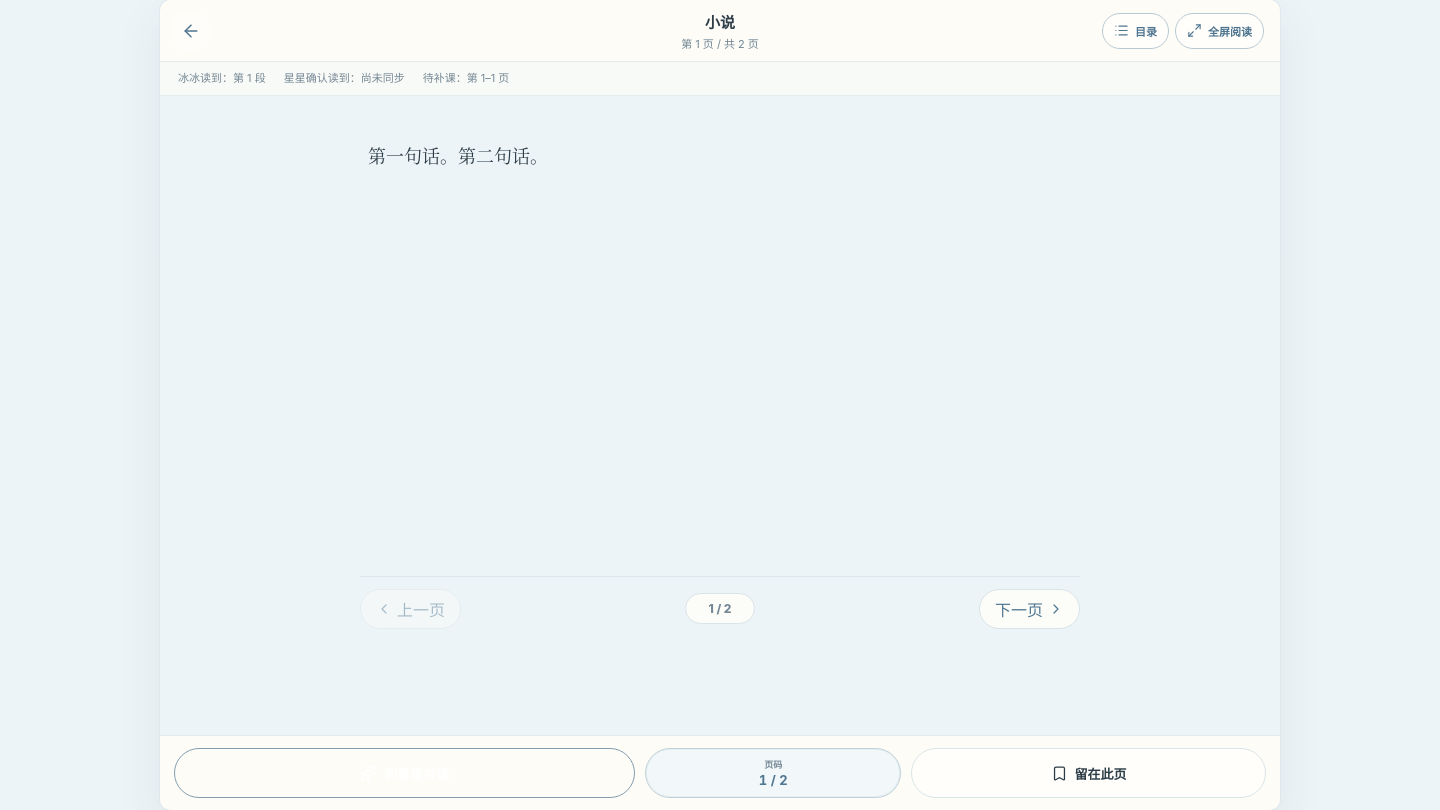
Scenario: NovelReader › keeps the page number in the bottom action bar without a more-actions entry
Click the button with aria-label "阅读进度 1 / 2，打开目录与跳页" at (773, 773), box [646,748,901,798]
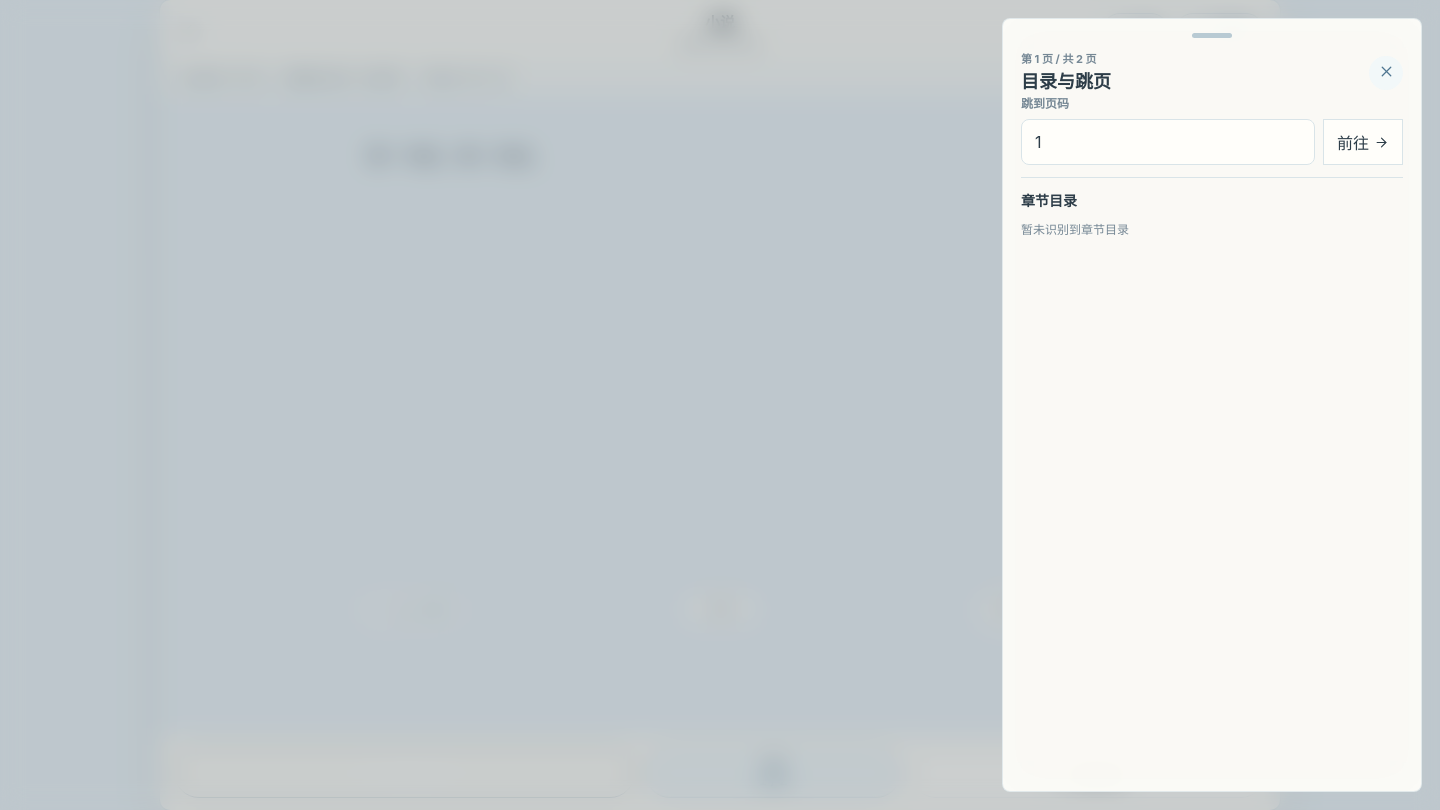
Expected: the dialog named "目录和跳页" is shown, [1002,18,1422,792]
